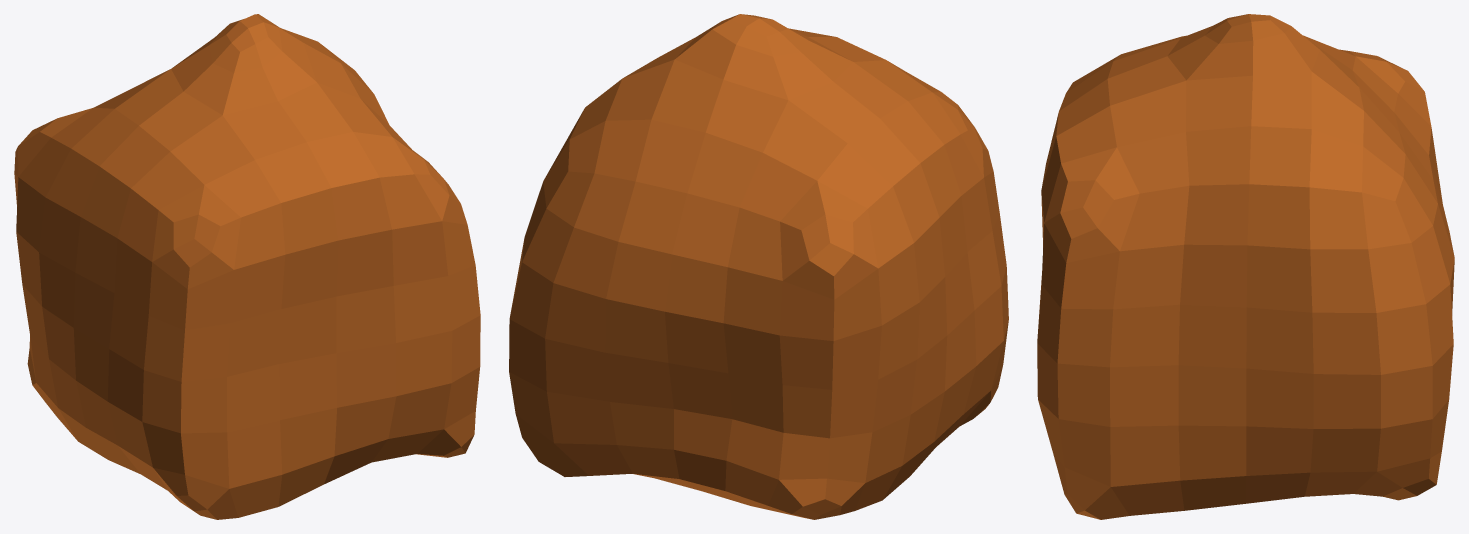
The model's file is Iron.fbx.
3 views of the same model, side by side, from view 1: azimuth 30°, elevation 25°; view 2: azimuth 150°, elevation 25°; view 3: azimuth 270°, elevation 25° (orthographic). The views are drawn at different scales.
Visible parts, largest first — view 1: Mesh; view 2: Mesh; view 3: Mesh.
Boxes of the visible parts, x1=… form: Mesh: x1=14, y1=14, x2=480, y2=519; Mesh: x1=509, y1=14, x2=1008, y2=519; Mesh: x1=1037, y1=14, x2=1454, y2=519.
Bounding box in the file's own units: 223 × 259 × 217.
